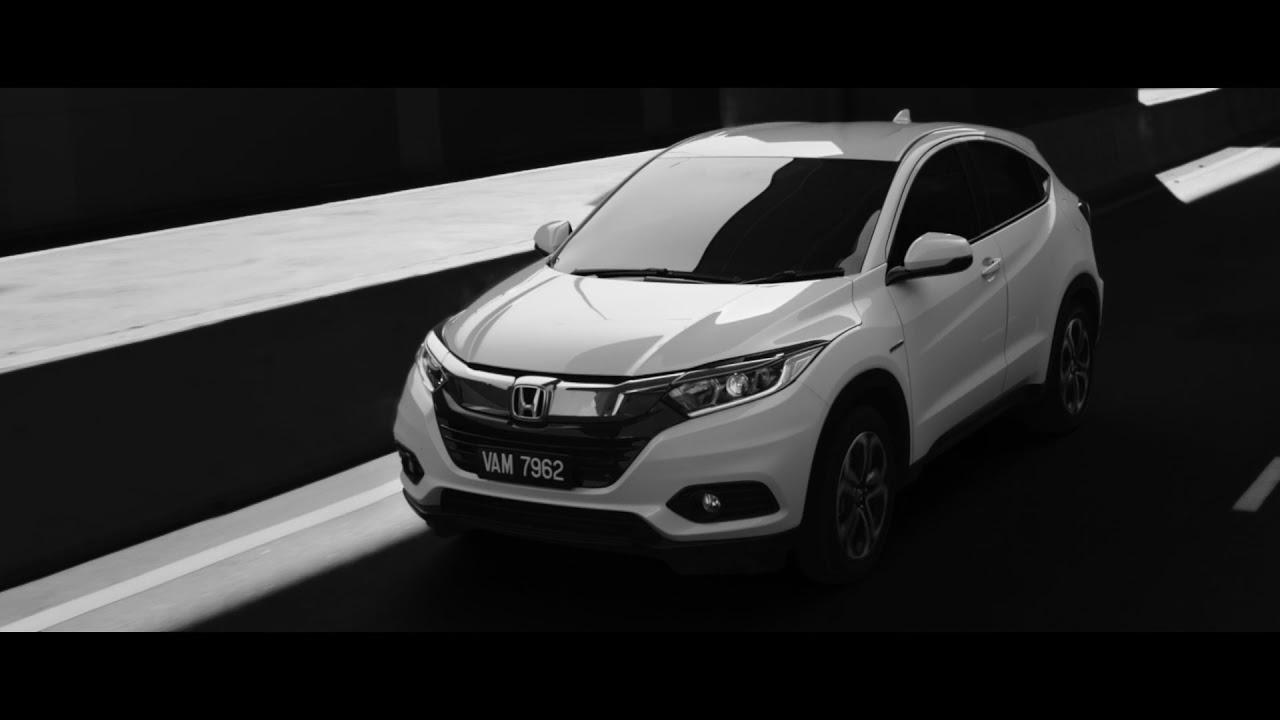Car hood: (431, 255, 866, 387)
Fender - -F-L-: (801, 251, 921, 424)
Front bumper: (386, 378, 829, 543)
Headlight - -L-: (660, 340, 829, 418)
Headlight - -R-: (412, 341, 457, 396)
Passenger-s door - -F-L-: (895, 108, 1019, 498)
Passenger-s door - -R-L-: (999, 119, 1060, 406)
Side bumper - -L-: (913, 330, 1058, 511)
Side mirror - -L-: (890, 230, 977, 285)
Side mirror - -R-: (521, 222, 575, 260)
